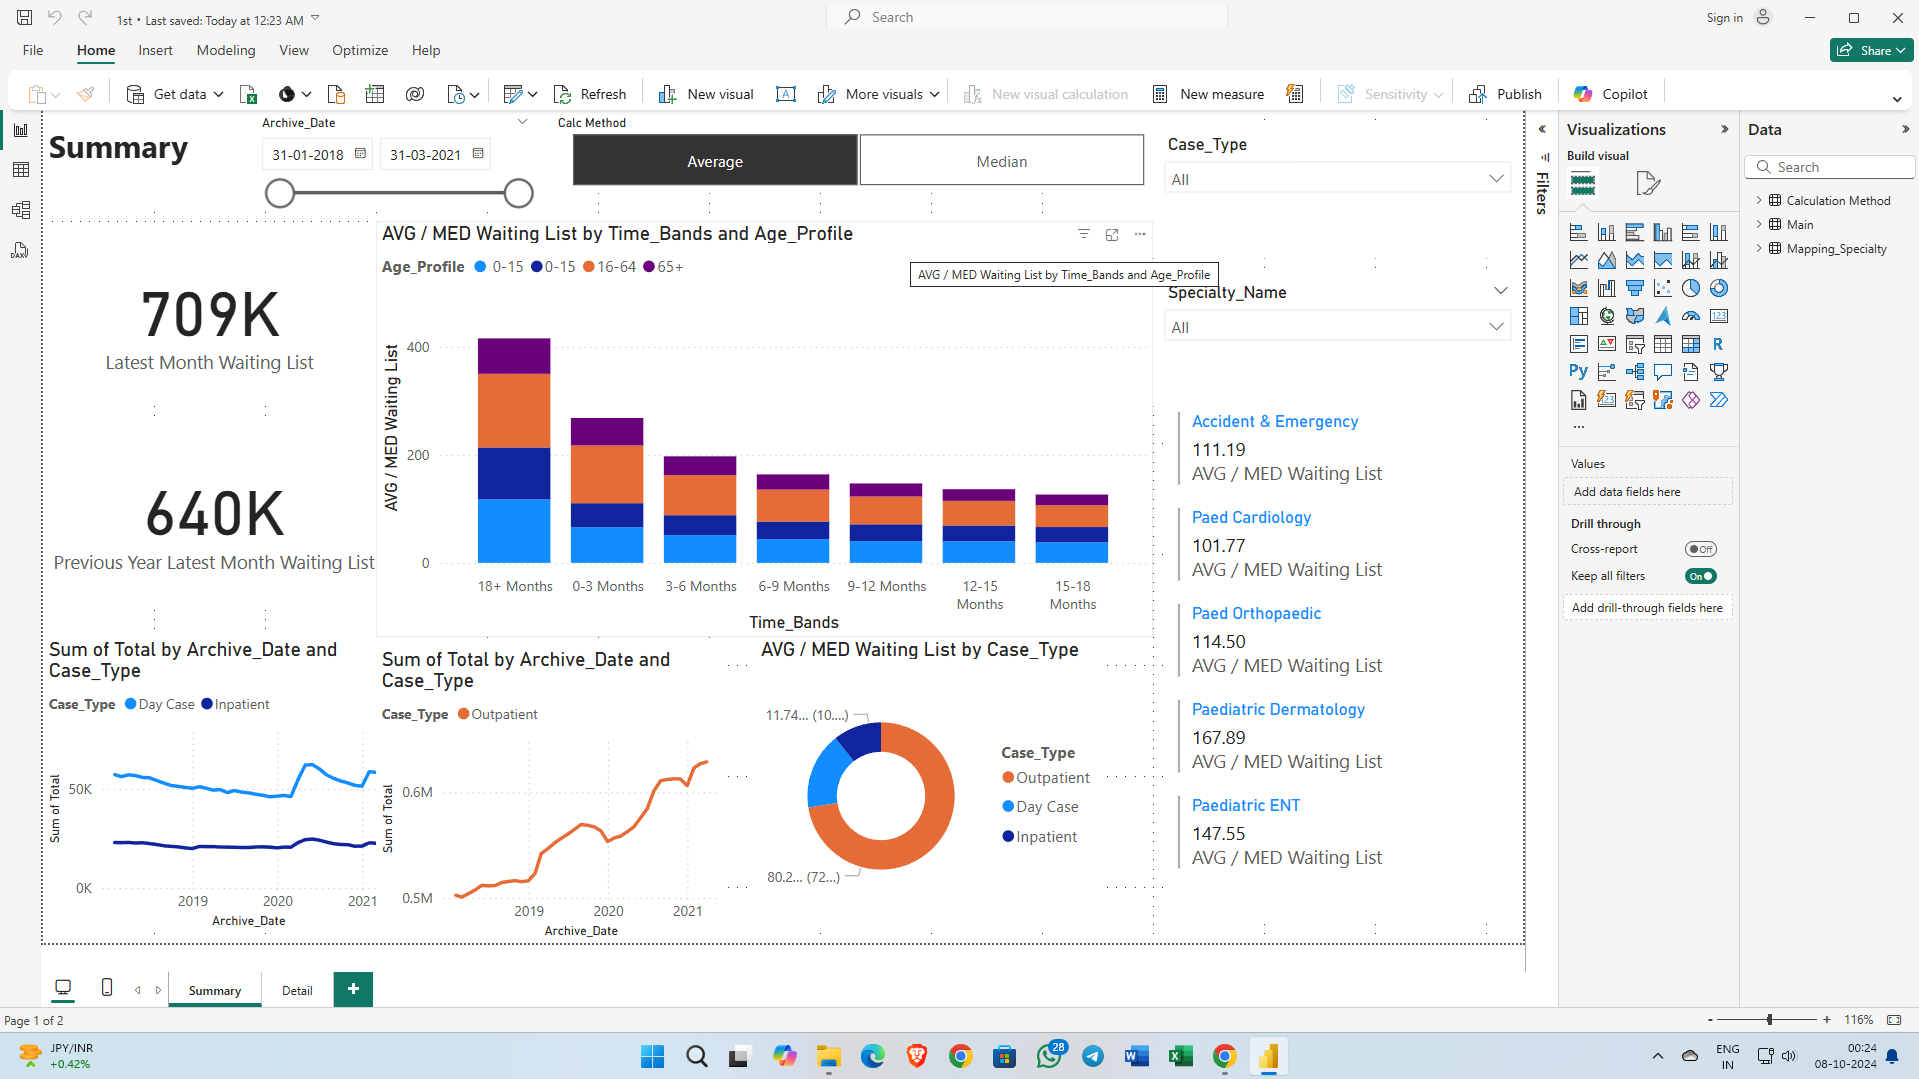

The dashboard page shown, as its layout file describes it:
{"tool":"powerbi","page":{"name":"Summary","canvas":[1280,720],"ordinal":0},"visuals":[{"type":"card","fields":{"Values":["Main.Latest Month Waiting List"]},"box":[0,104,288,152],"z":0},{"type":"card","fields":{"Values":["Main.Previous Year Latest Month Waiting List"]},"box":[0,272,296,160],"z":1000},{"type":"slicer","fields":{"Values":["Calculation Method.Calc Method"]},"box":[432,0,544,72],"z":2000},{"type":"donutChart","fields":{"Category":["Main.Case_Type"],"Y":["Main.AVG / MED Waiting List"]},"box":[616,456,304,256],"z":3000},{"type":"columnChart","fields":{"Category":["Main.Time_Bands"],"Y":["Main.AVG / MED Waiting List"],"Series":["Main.Age_Profile"]},"box":[288,96,672,360],"z":4000},{"type":"multiRowCard","fields":{"Values":["Main.Specialty_Name","Main.AVG / MED Waiting List"]},"box":[976,256,304,448],"z":5000},{"type":"lineChart","fields":{"Category":["Main.Archive_Date"],"Y":["Sum(Main.Total)"],"Series":["Main.Case_Type"]},"box":[0,456,312,256],"z":6000},{"type":"lineChart","fields":{"Category":["Main.Archive_Date"],"Y":["Sum(Main.Total)"],"Series":["Main.Case_Type"]},"box":[288,464,304,256],"z":7000},{"type":"slicer","fields":{"Values":["Main.Archive_Date"]},"box":[176,0,256,88],"z":8000},{"type":"slicer","fields":{"Values":["Main.Case_Type"]},"box":[960,16,320,112],"z":9000},{"type":"slicer","fields":{"Values":["Main.Specialty_Name"]},"box":[960,144,320,112],"z":10000},{"type":"textbox","box":[0,8,176,80],"z":11000}]}

Visuals, with their boxes on the page's 1280x720 design canvas (x1, y1, x2, y2). These are canvas units, not pixel positions in the 1919x1079 screenshot, which may show the page scaled, cropped or inside an application window:
card - Main.Latest Month Waiting List: x1=0 y1=104 x2=288 y2=256
card - Main.Previous Year Latest Month Waiting List: x1=0 y1=272 x2=296 y2=432
slicer - Calculation Method.Calc Method: x1=432 y1=0 x2=976 y2=72
donutChart - Main.Case_Type x Main.AVG / MED Waiting List: x1=616 y1=456 x2=920 y2=712
columnChart - Main.Time_Bands x Main.AVG / MED Waiting List: x1=288 y1=96 x2=960 y2=456
multiRowCard - Main.Specialty_Name x Main.AVG / MED Waiting List: x1=976 y1=256 x2=1280 y2=704
lineChart - Main.Archive_Date x Sum(Main.Total): x1=0 y1=456 x2=312 y2=712
lineChart - Main.Archive_Date x Sum(Main.Total): x1=288 y1=464 x2=592 y2=720
slicer - Main.Archive_Date: x1=176 y1=0 x2=432 y2=88
slicer - Main.Case_Type: x1=960 y1=16 x2=1280 y2=128
slicer - Main.Specialty_Name: x1=960 y1=144 x2=1280 y2=256
textbox: x1=0 y1=8 x2=176 y2=88
